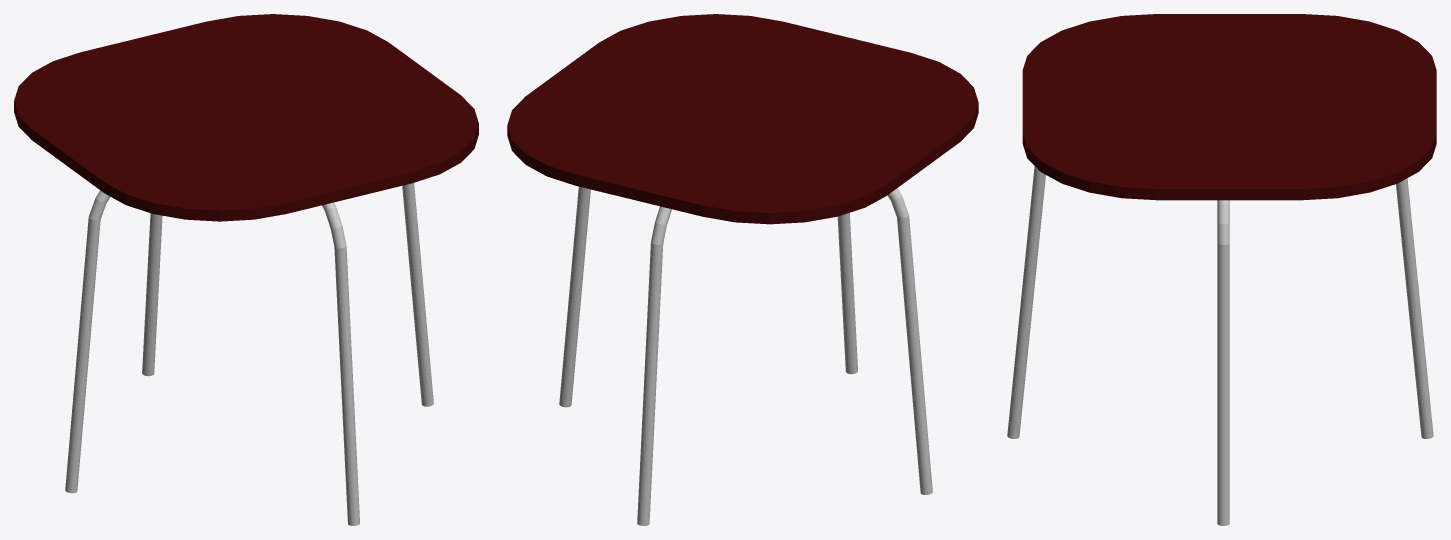
3 views of the same model, side by side, from view 1: azimuth 30°, elevation 25°; view 2: azimuth 150°, elevation 25°; view 3: azimuth 270°, elevation 25° (orthographic).
Parts seen in each view (by area): view 1: Mesh1 tabletop fusion_table1 Model, Mesh2 Group1 table_leg fusion_table1 Model, Mesh3 Group_19_1 table_leg fusion_table1 Model; view 2: Mesh1 tabletop fusion_table1 Model, Mesh2 Group1 table_leg fusion_table1 Model, Mesh3 Group_19_1 table_leg fusion_table1 Model; view 3: Mesh1 tabletop fusion_table1 Model, Mesh3 Group_19_1 table_leg fusion_table1 Model, Mesh2 Group1 table_leg fusion_table1 Model.
Part boxes in pixels (<box>): Mesh1 tabletop fusion_table1 Model: <box>14,14,478,221</box>; Mesh2 Group1 table_leg fusion_table1 Model: <box>65,183,433,493</box>; Mesh3 Group_19_1 table_leg fusion_table1 Model: <box>142,202,359,525</box>; Mesh1 tabletop fusion_table1 Model: <box>507,14,978,224</box>; Mesh2 Group1 table_leg fusion_table1 Model: <box>559,186,932,494</box>; Mesh3 Group_19_1 table_leg fusion_table1 Model: <box>637,206,857,525</box>; Mesh1 tabletop fusion_table1 Model: <box>1022,14,1436,200</box>; Mesh3 Group_19_1 table_leg fusion_table1 Model: <box>1007,166,1433,438</box>; Mesh2 Group1 table_leg fusion_table1 Model: <box>1217,200,1229,525</box>.
Bounding box in the file's own units: 0.6982 × 0.606 × 0.7033.
